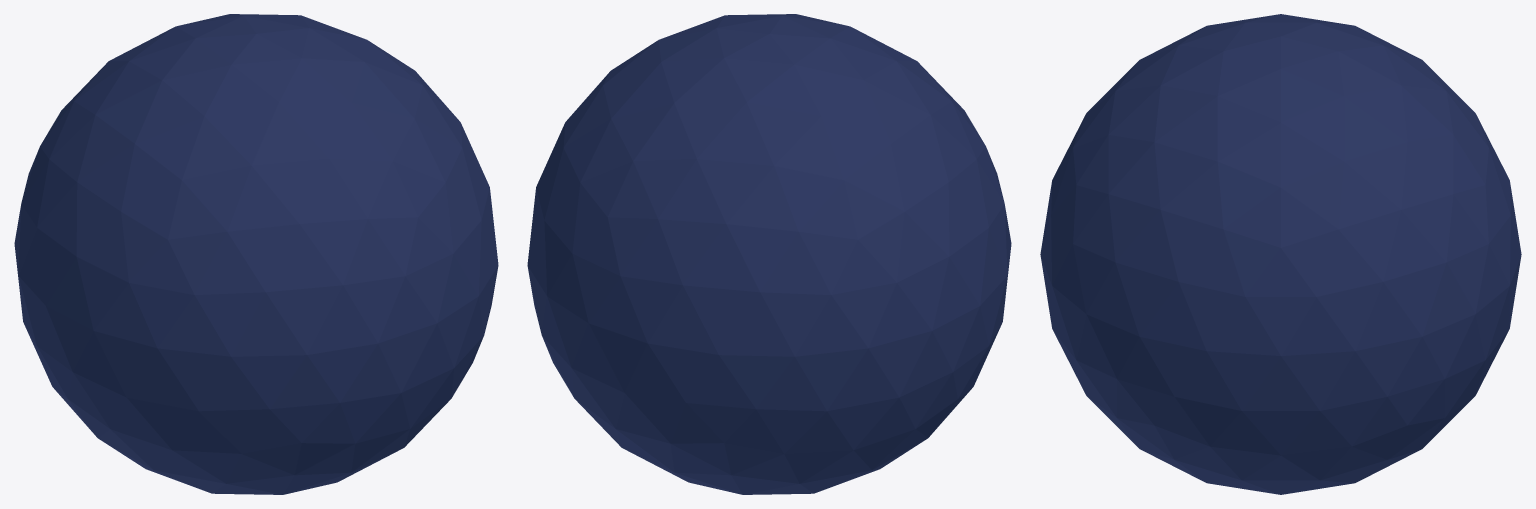
The model's file is garden.glb.
The picture shows the model from 3 angles, left to right: view 1: azimuth 30°, elevation 25°; view 2: azimuth 150°, elevation 25°; view 3: azimuth 270°, elevation 25°; orthographic projection.
Visible parts, largest first — view 1: O_space; view 2: O_space; view 3: O_space.
Boxes of the visible parts, box(x1,y1,x2,y2) form: O_space: box(14, 14, 498, 494); O_space: box(527, 14, 1011, 494); O_space: box(1040, 14, 1521, 494).
Size of the model in its own units: 520 by 520 by 520.
